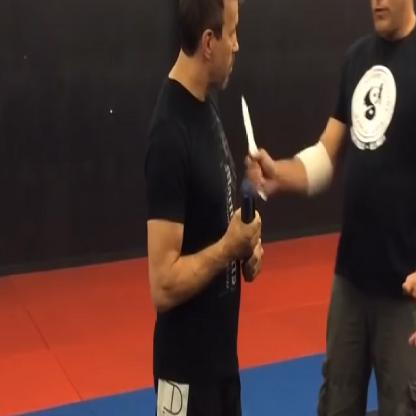knife: (238, 87, 270, 203)
